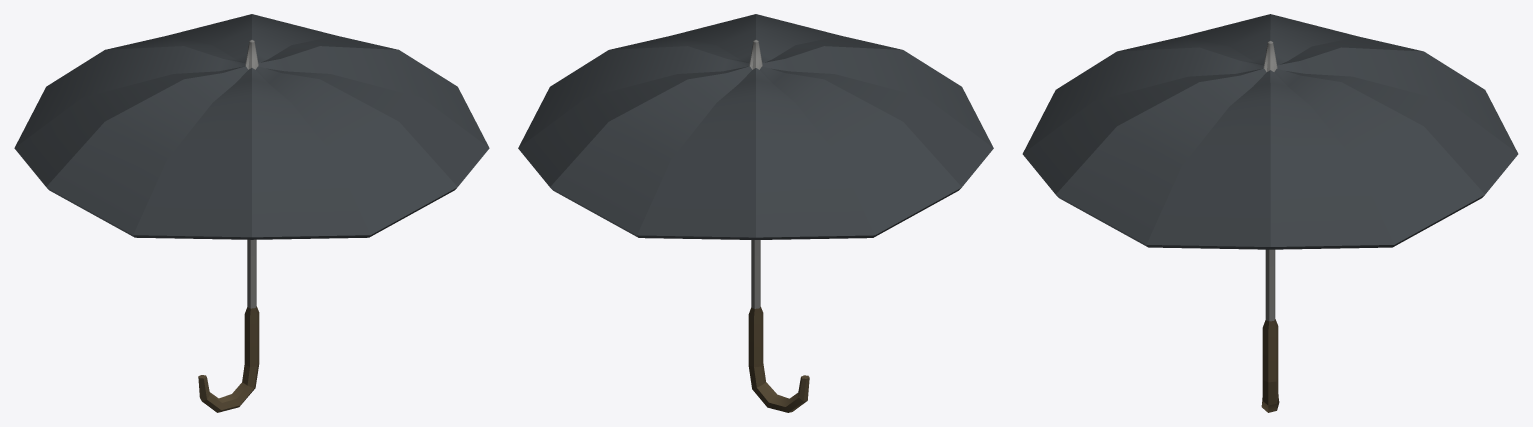
File: SM_Prop_Umbrella_01.fbx
3 views of the same model, side by side, from view 1: azimuth 30°, elevation 25°; view 2: azimuth 150°, elevation 25°; view 3: azimuth 270°, elevation 25° (orthographic). The views are drawn at different scales.
Parts seen in each view (by area): view 1: SM_Prop_Umbrella_01; view 2: SM_Prop_Umbrella_01; view 3: SM_Prop_Umbrella_01.
Boxes of the visible parts, x1,y1,x2,y2 form: SM_Prop_Umbrella_01: (14,14,489,412); SM_Prop_Umbrella_01: (518,14,993,412); SM_Prop_Umbrella_01: (1022,14,1518,412).
Bounding box in the file's own units: 160 × 135 × 160.
